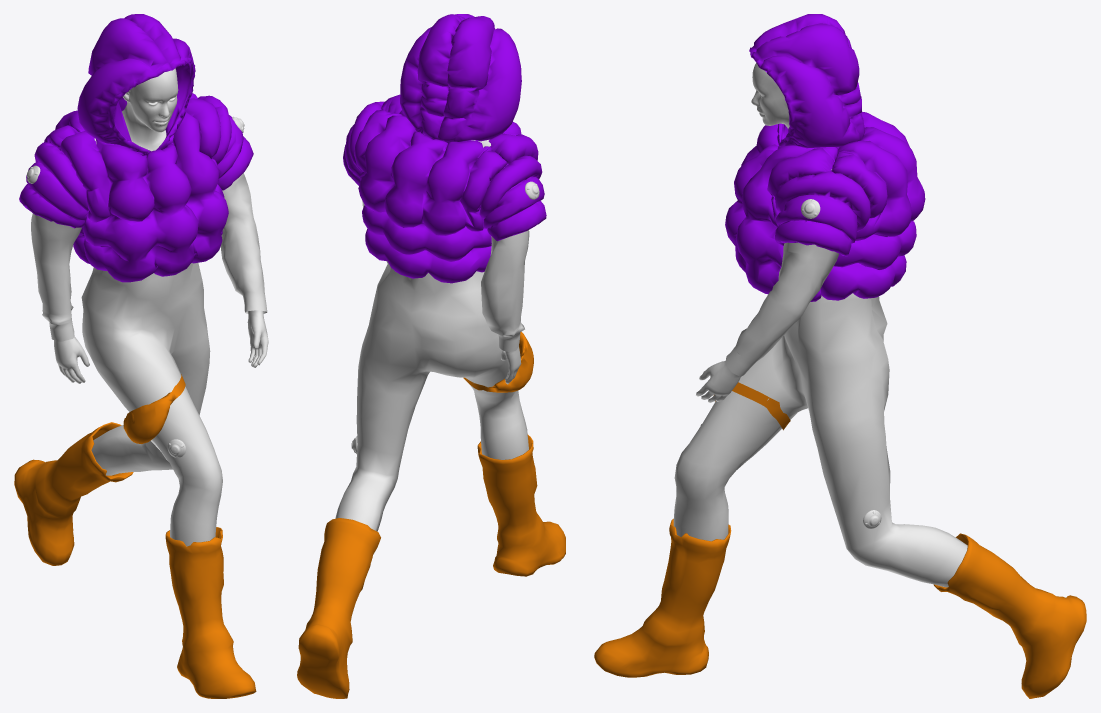
The model's file is Sm_Northface_WAter_filter.fbx.
The picture shows the model from 3 angles, left to right: view 1: azimuth 30°, elevation 25°; view 2: azimuth 150°, elevation 25°; view 3: azimuth 270°, elevation 25°; orthographic projection. The views are drawn at different scales.
Visible parts, largest first — view 1: 4_low_ropaAgua.001, 2_low_ropaAgua.006, 1_low_ropaAgua.004, 5_low_ropaAgua.008, 1_low_ropaAgua.001, Realistic_White_Female_Low_Poly.002, 3_low_ropaAgua.001, Realistic_White_Female_Low_Poly, Realistic_White_Female_Low_Poly.003, Sm_Filter.002; view 2: 4_low_ropaAgua.001, 2_low_ropaAgua.006, 1_low_ropaAgua.001, 1_low_ropaAgua.004, 5_low_ropaAgua.008, 3_low_ropaAgua.001, Realistic_White_Female_Low_Poly; view 3: 4_low_ropaAgua.001, 2_low_ropaAgua.006, 1_low_ropaAgua.004, 1_low_ropaAgua.001, 5_low_ropaAgua.008, Realistic_White_Female_Low_Poly.002, Realistic_White_Female_Low_Poly.003, 3_low_ropaAgua.001.
Part boxes in pixels (x1,y1,x2,y2): 4_low_ropaAgua.001: (19,14,253,282); 2_low_ropaAgua.006: (81,263,222,546); 1_low_ropaAgua.004: (165,527,256,698); 5_low_ropaAgua.008: (31,173,267,341); 1_low_ropaAgua.001: (14,422,133,565); Realistic_White_Female_Low_Poly.002: (94,68,178,151); 3_low_ropaAgua.001: (123,374,185,443); Realistic_White_Female_Low_Poly: (54,336,89,383); Realistic_White_Female_Low_Poly.003: (247,310,268,367); Sm_Filter.002: (27,116,244,457); 4_low_ropaAgua.001: (343,14,546,283); 2_low_ropaAgua.006: (335,261,528,531); 1_low_ropaAgua.001: (297,518,380,698); 1_low_ropaAgua.004: (477,434,565,576); 5_low_ropaAgua.008: (362,200,529,351); 3_low_ropaAgua.001: (463,331,533,392); Realistic_White_Female_Low_Poly: (501,346,521,384); 4_low_ropaAgua.001: (725,14,925,301); 2_low_ropaAgua.006: (673,293,967,587); 1_low_ropaAgua.004: (594,519,731,677); 1_low_ropaAgua.001: (933,533,1086,698); 5_low_ropaAgua.008: (725,169,838,376); Realistic_White_Female_Low_Poly.002: (751,63,789,128); Realistic_White_Female_Low_Poly.003: (696,361,740,402); 3_low_ropaAgua.001: (713,382,790,430).
Size of the model in its own units: 63.11 by 179 by 121.
